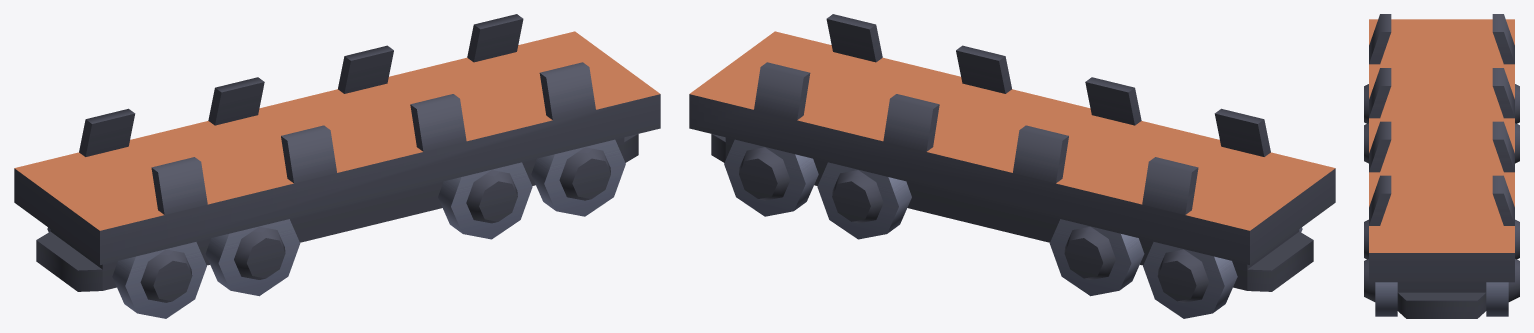
Rendered from kenney-holiday-train-wagon-flat.glb.
3 renders of one model, left to right at view 1: azimuth 30°, elevation 25°; view 2: azimuth 150°, elevation 25°; view 3: azimuth 270°, elevation 25°, orthographic. The views are drawn at different scales.
Parts seen in each view (by area): view 1: train-wagon-flat; view 2: train-wagon-flat; view 3: train-wagon-flat.
Part boxes in pixels (x1,y1,x2,y2): train-wagon-flat: (14,14,660,318); train-wagon-flat: (689,14,1335,318); train-wagon-flat: (1364,14,1519,318).
Bounding box in the file's own units: 0.6914 × 0.172 × 0.1949.
Materials: 1 (1 with a texture image).
